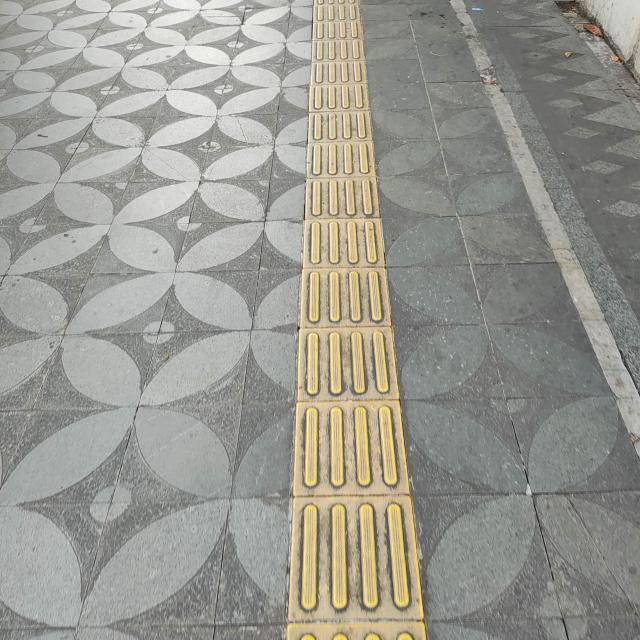lurus: (274, 6, 430, 640)
